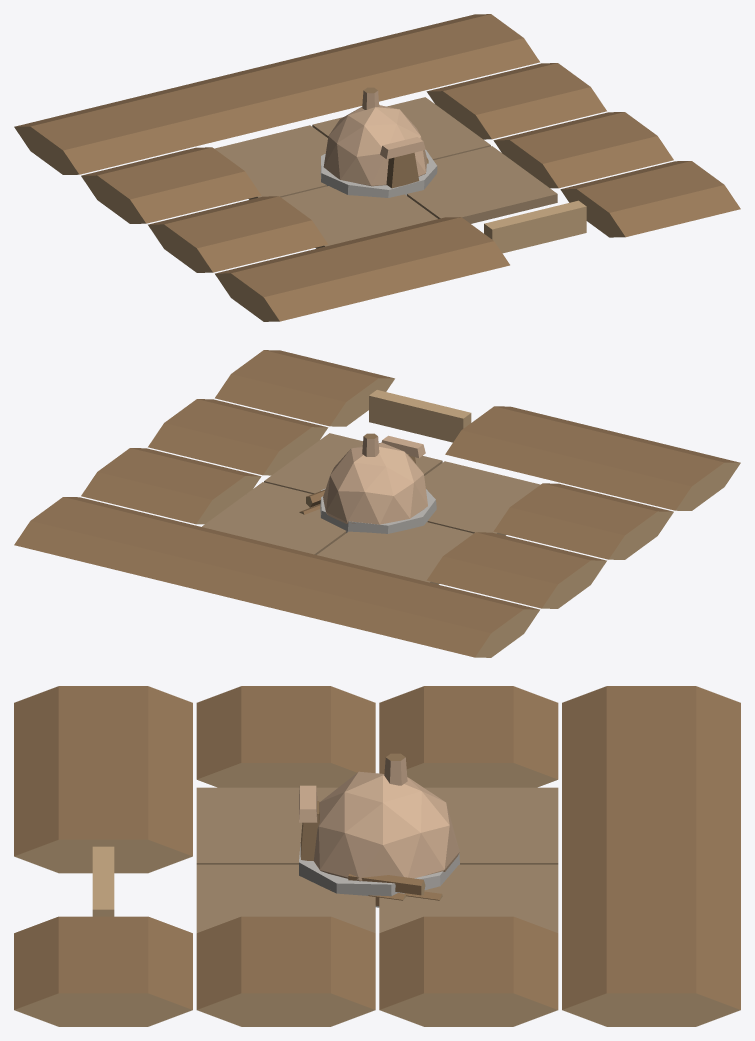
Rendered from building_oven_house_foundation.glb.
3 renders of one model, top to bottom at view 1: azimuth 30°, elevation 25°; view 2: azimuth 150°, elevation 25°; view 3: azimuth 270°, elevation 25°, orthographic. The views are drawn at different scales.
Visible parts, largest first — view 1: building_oven_house_foundation; view 2: building_oven_house_foundation; view 3: building_oven_house_foundation.
Boxes of the visible parts, <box> form: building_oven_house_foundation: <box>14,14,740,321</box>; building_oven_house_foundation: <box>14,350,740,657</box>; building_oven_house_foundation: <box>14,686,740,1026</box>.
Bounding box in the file's own units: 1 × 0.1821 × 1.
